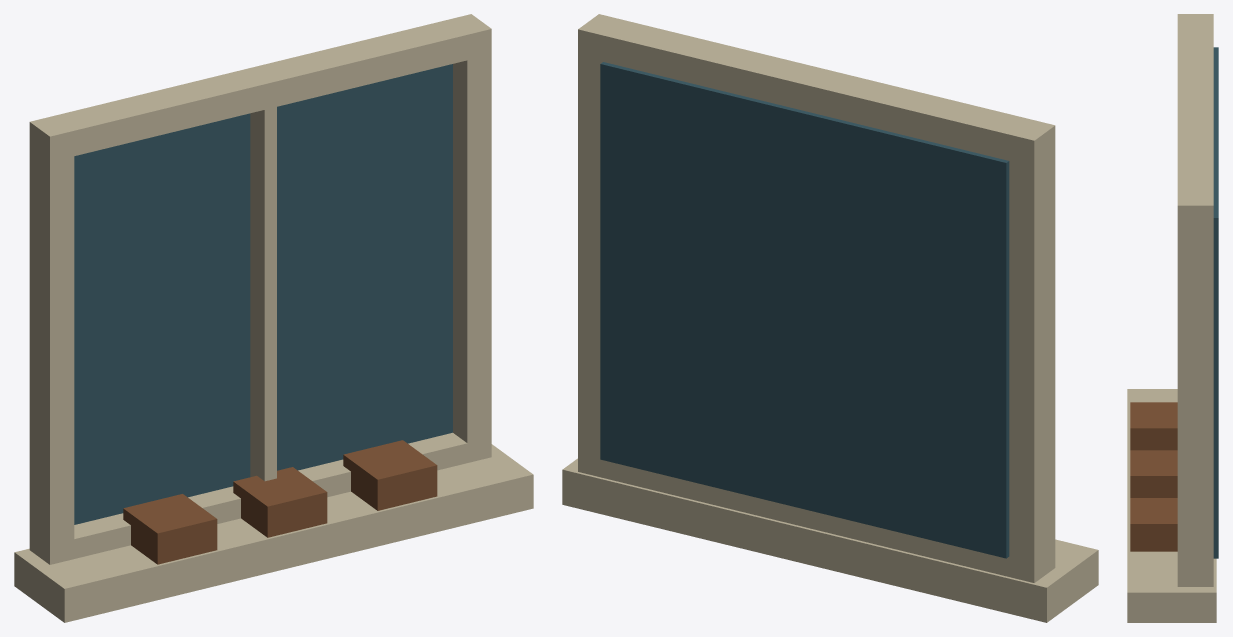
The model's file is window_16.glb.
3 renders of one model, left to right at view 1: azimuth 30°, elevation 25°; view 2: azimuth 150°, elevation 25°; view 3: azimuth 270°, elevation 25°, orthographic. The views are drawn at different scales.
Parts seen in each view (by area): view 1: window_16; view 2: window_16; view 3: window_16.
Part boxes in pixels (box(x1,y1,x2,y2)): window_16: box(14, 14, 533, 622); window_16: box(562, 14, 1098, 622); window_16: box(1127, 14, 1218, 622).
Size of the model in its own units: 1.73 by 1.63 by 0.3275.
